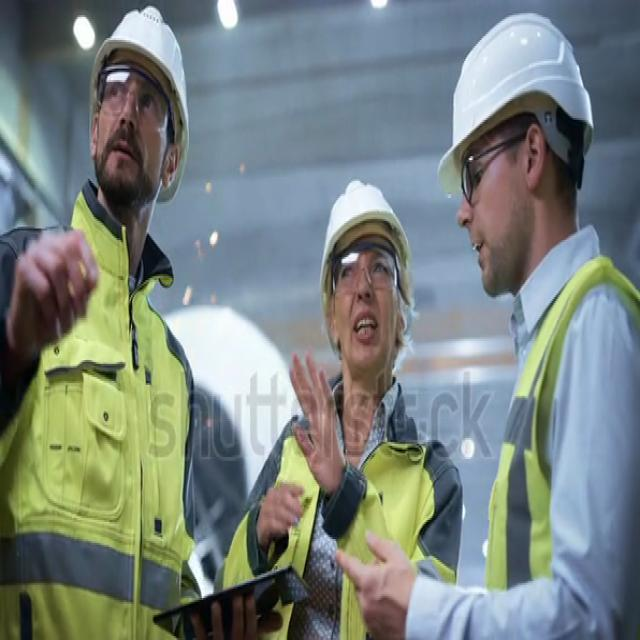goggles: (94, 60, 175, 135), (458, 128, 532, 210), (328, 242, 403, 302)
